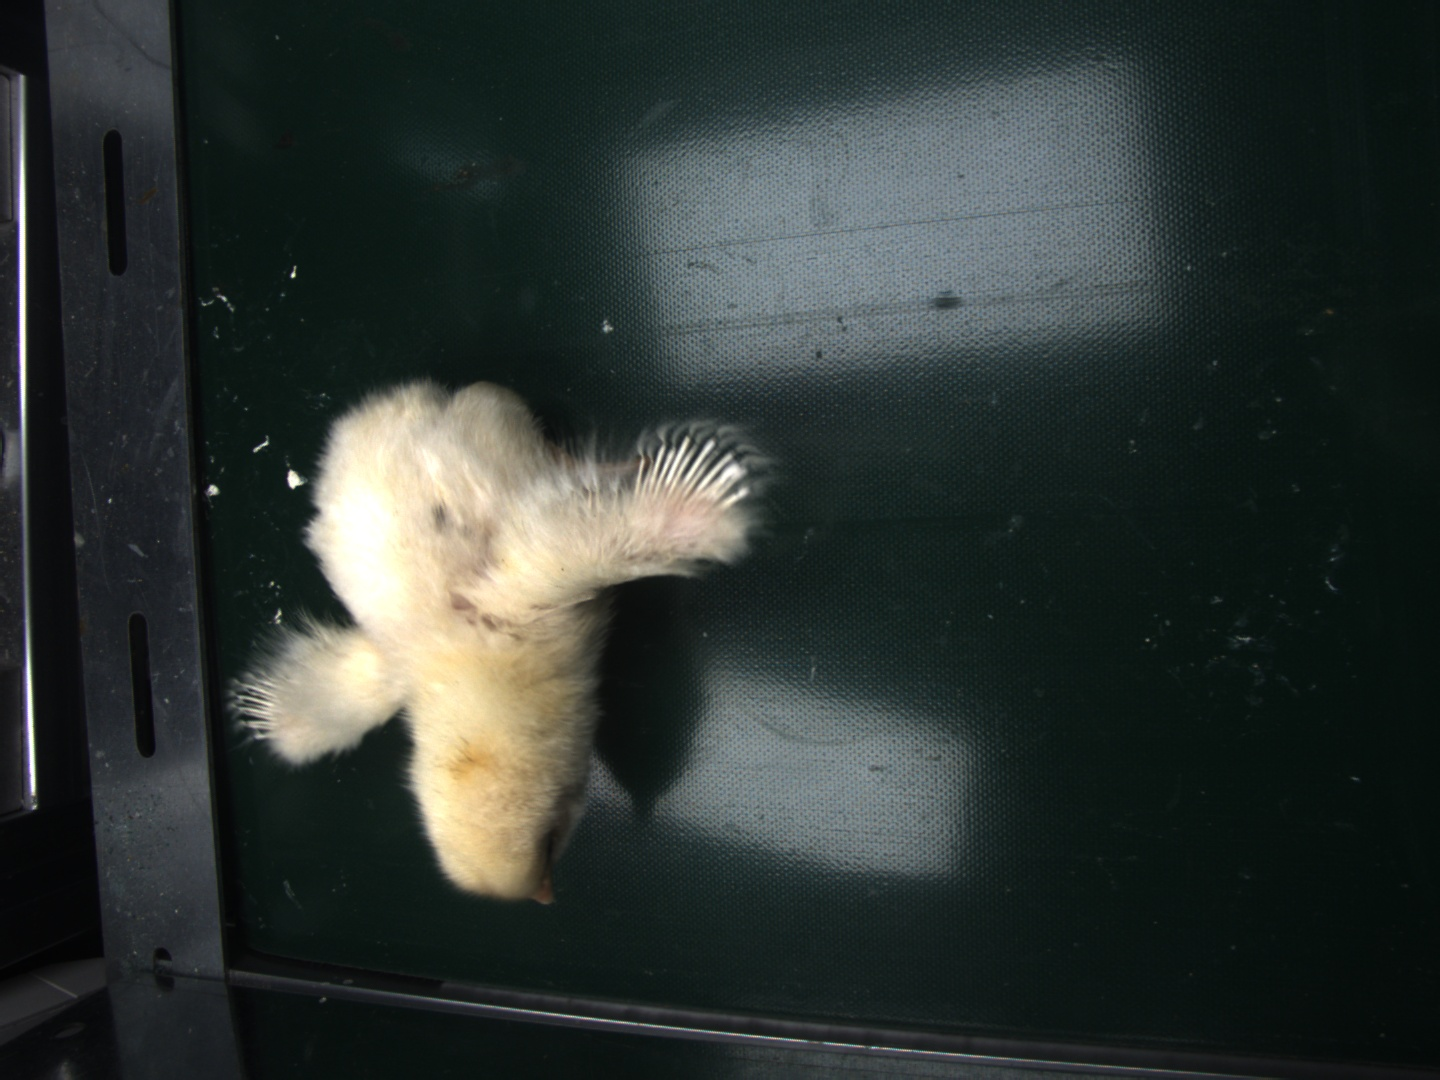male: (637, 433, 747, 509)
